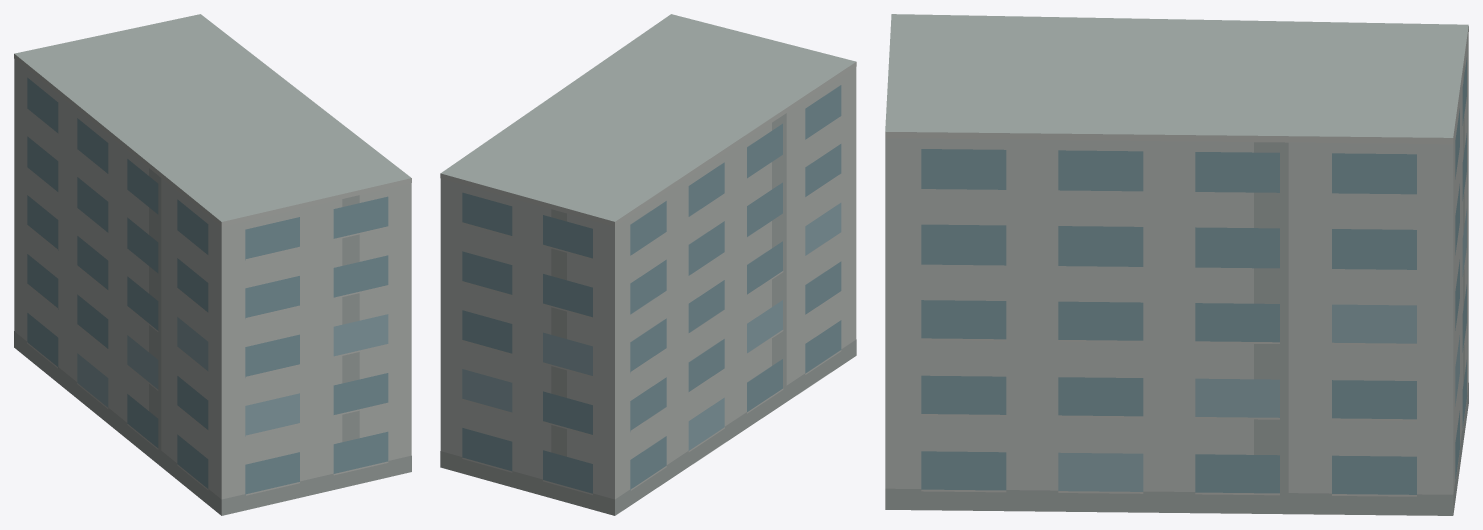
The model's file is survey-upis-32968405.glb.
3 views of the same model, side by side, from view 1: azimuth 30°, elevation 25°; view 2: azimuth 150°, elevation 25°; view 3: azimuth 270°, elevation 25° (orthographic). The views are drawn at different scales.
Parts seen in each view (by area): view 1: survey-upis-32968405.tmp; view 2: survey-upis-32968405.tmp; view 3: survey-upis-32968405.tmp.
Part boxes in pixels (left/top/right/bottom): survey-upis-32968405.tmp: left=14, top=14, right=411, bottom=515; survey-upis-32968405.tmp: left=440, top=14, right=856, bottom=515; survey-upis-32968405.tmp: left=885, top=14, right=1468, bottom=515.
Bounding box in the file's own units: 10.13 × 14.4 × 20.16.
